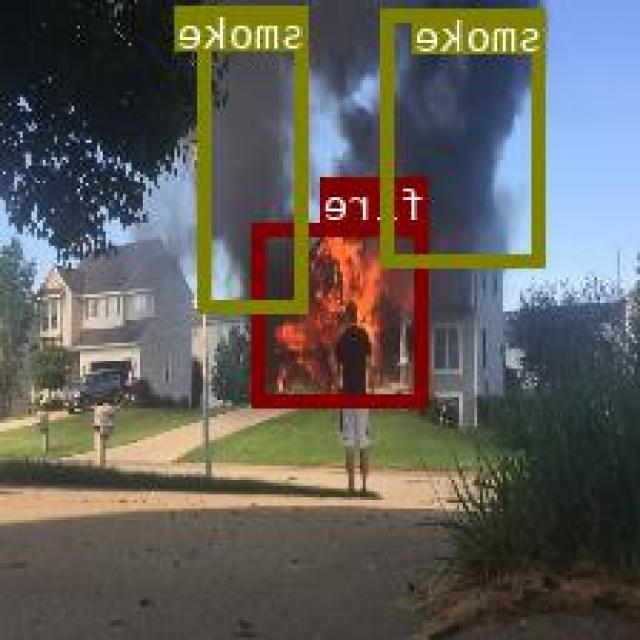fire: (255, 220, 430, 405)
smoke: (384, 7, 548, 264), (202, 3, 311, 310)
